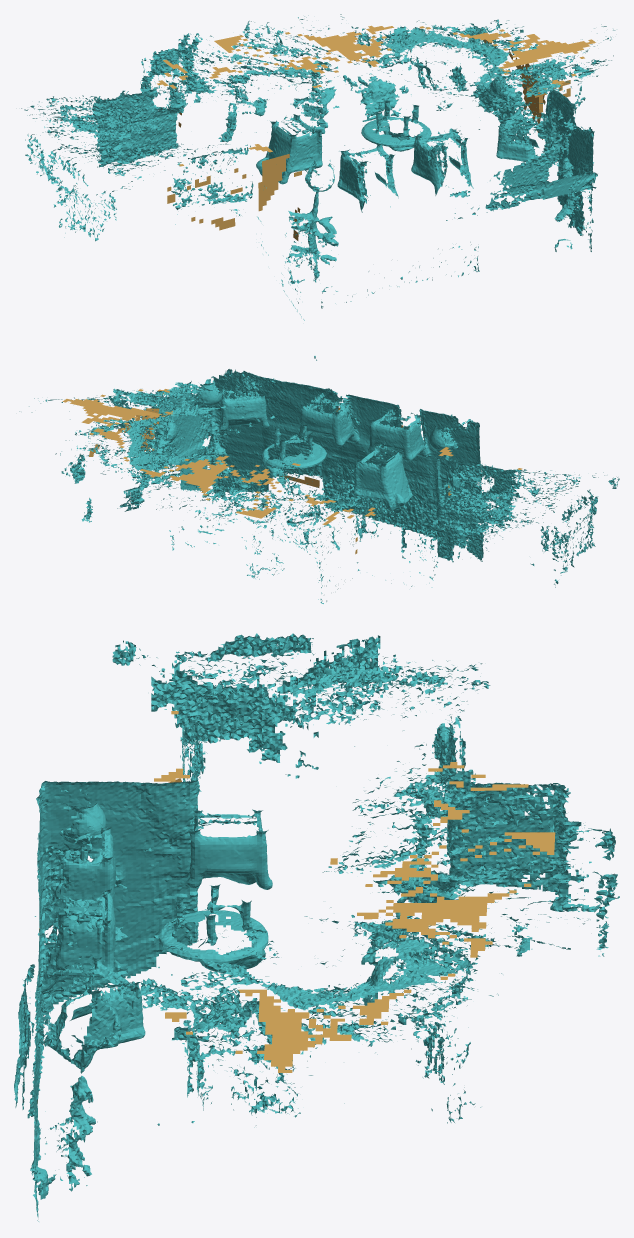
File: OBSERVED-vs-INFERRED-provenance.glb
The picture shows the model from 3 angles, top to bottom: view 1: azimuth 30°, elevation 25°; view 2: azimuth 150°, elevation 25°; view 3: azimuth 270°, elevation 25°; orthographic projection. The views are drawn at different scales.
Parts seen in each view (by area): view 1: world; view 2: world; view 3: world.
Part boxes in pixels (x1=…): world: x1=21, y1=14, x2=615, y2=320; world: x1=19, y1=356, x2=619, y2=603; world: x1=14, y1=633, x2=619, y2=1221.
Bounding box in the file's own units: 10.22 × 3.3 × 5.88.
